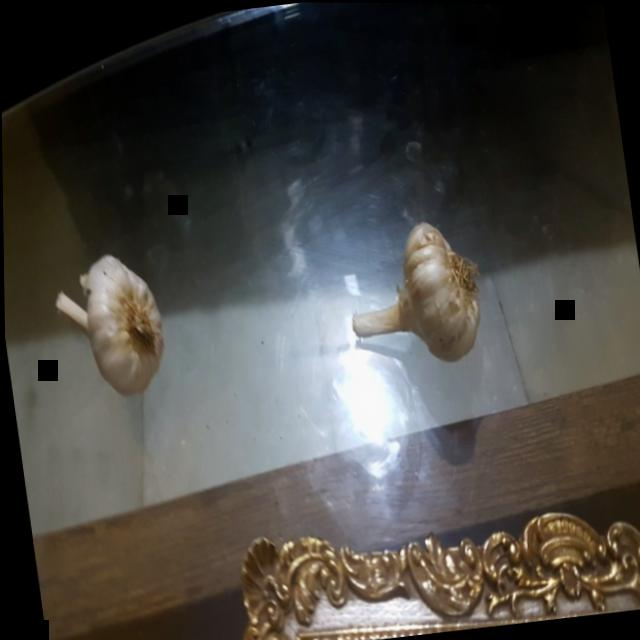garlic: (330, 206, 493, 377), (45, 244, 179, 407)
